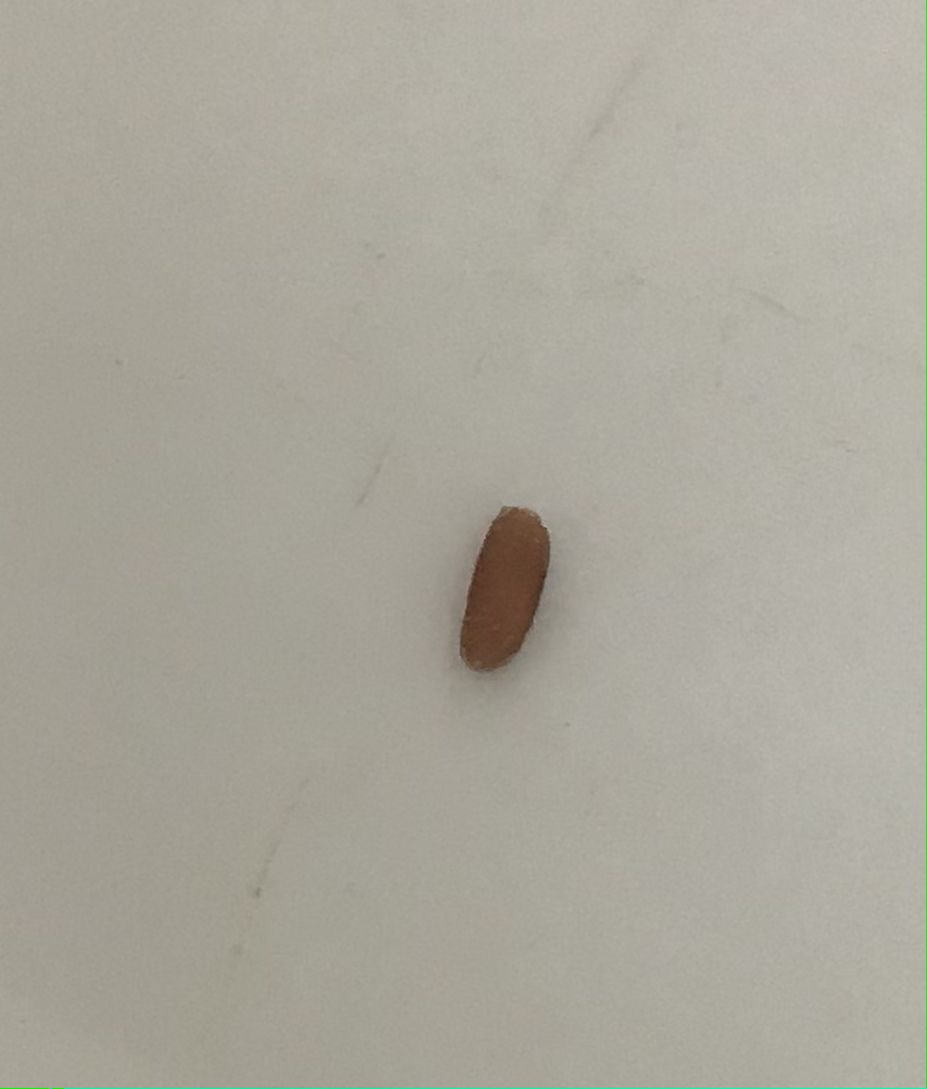Gao Lut Do: (459, 499, 556, 683)
